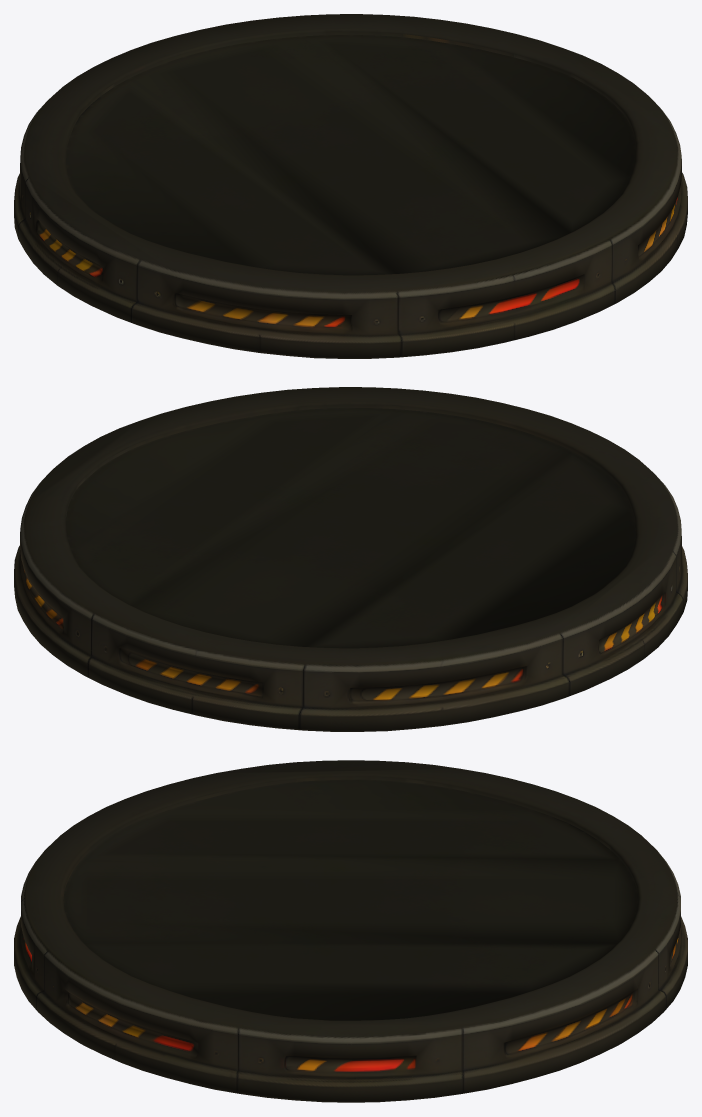
Rendered from VAL_Circle_Base_OS_MML_FINAL.glb.
3 views of the same model, one above another, from view 1: azimuth 30°, elevation 25°; view 2: azimuth 150°, elevation 25°; view 3: azimuth 270°, elevation 25° (orthographic).
Parts seen in each view (by area): view 1: material; view 2: material; view 3: material.
Boxes of the visible parts, x1,y1,x2,y2 form: material: (14, 14, 687, 358); material: (14, 387, 687, 731); material: (14, 760, 687, 1102).
Size of the model in its own units: 13.9 by 1.5 by 13.9.
1 material, 1 textured.
